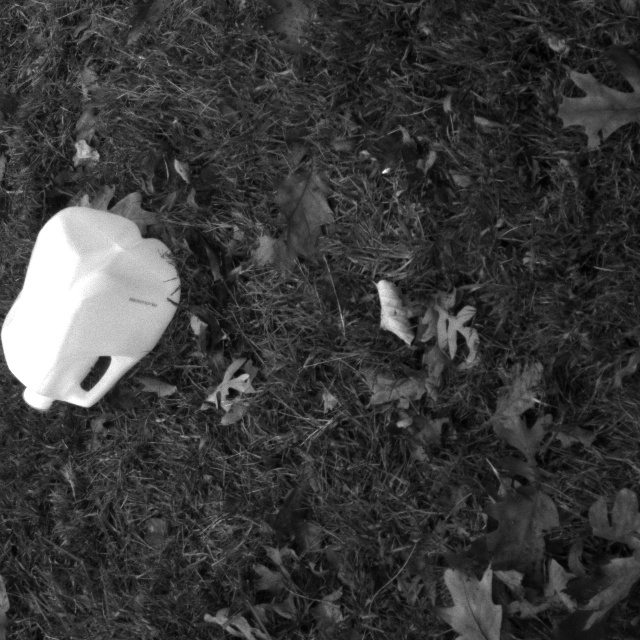can: (0, 191, 200, 432)
